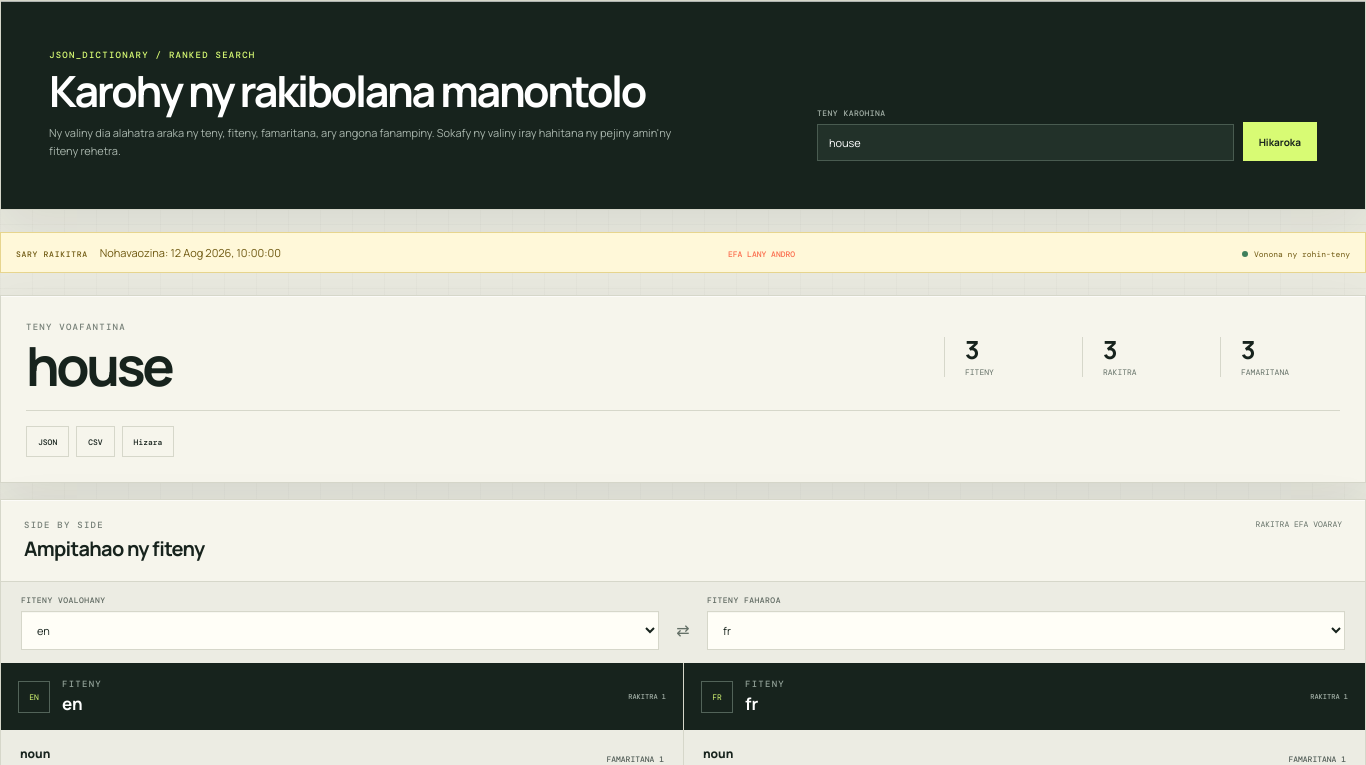
Test case: LexiconWorkspace › compares two loaded languages side by side
Select "de" in the dropdown labelled "Fiteny faharoa" at (1026,631), box [707, 611, 1345, 650]
(page scrolled)
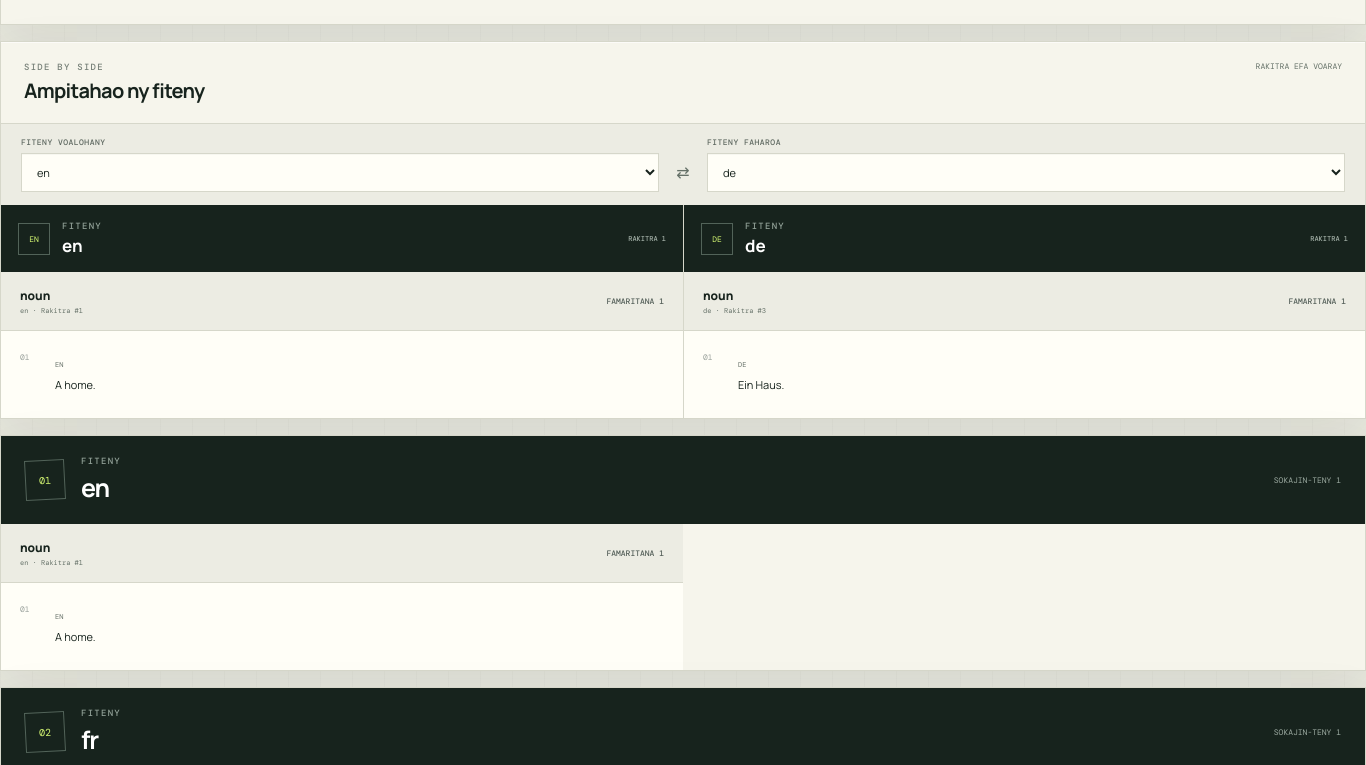
Expected: the text "Ein Haus." is shown, [738, 377, 784, 392]
